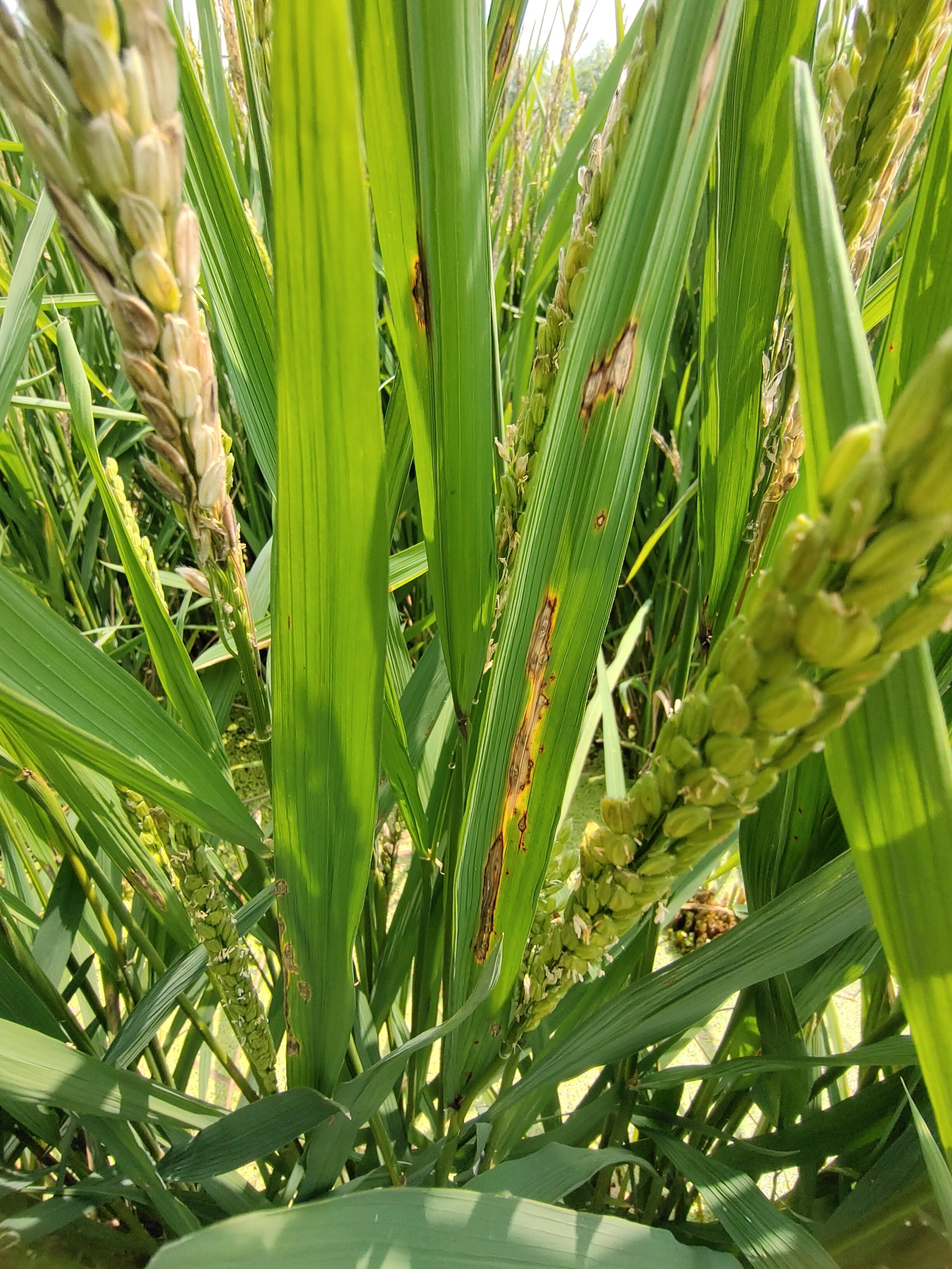LEAF BLAST: (578, 317, 637, 439), (501, 714, 536, 830), (474, 832, 503, 963), (524, 586, 557, 689), (527, 674, 550, 734), (518, 813, 527, 854), (594, 510, 607, 530)
